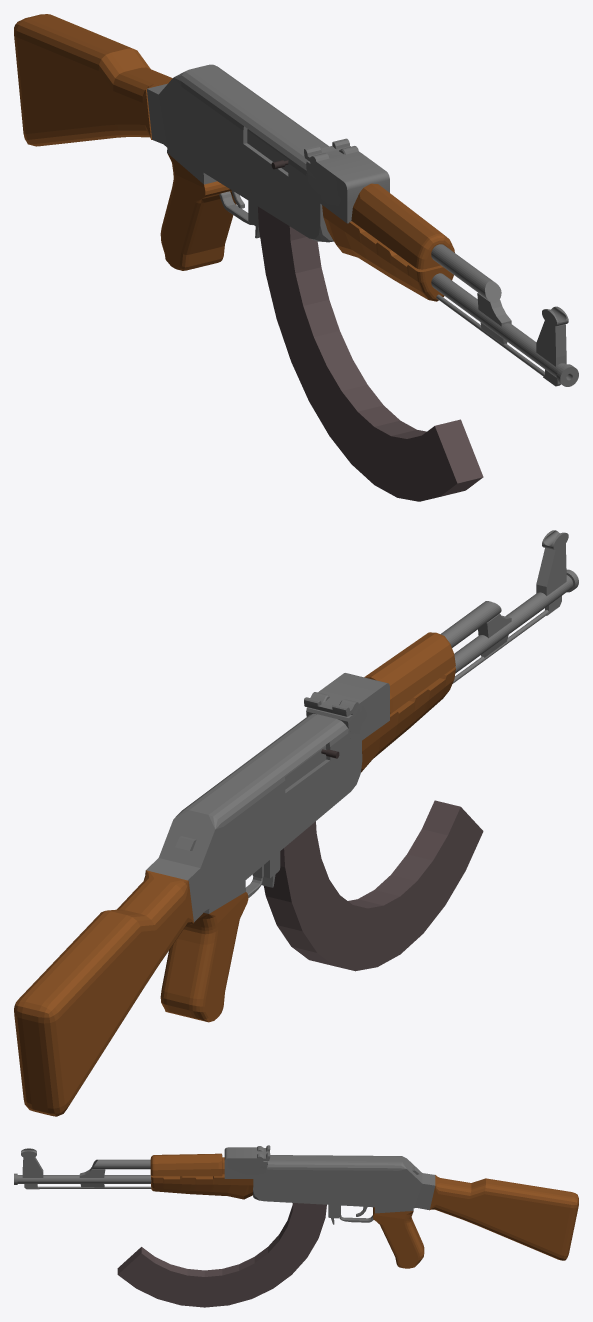
Rendered from Rare.fbx.
The picture shows the model from 3 angles, top to bottom: view 1: azimuth 30°, elevation 25°; view 2: azimuth 150°, elevation 25°; view 3: azimuth 270°, elevation 25°; orthographic projection. The views are drawn at different scales.
Parts seen in each view (by area): view 1: Rare, Body.003, Stock.002, Grip.002, Top Front Grip.002, Rear Sight Thingy.002, Bottom Handguard thing.002, Bottom Barrel.002, Top Barrel.002, Front Sight.002, Top To Bottom to Bottomer Connector.002, Bottomer Barrel.002; view 2: Body.003, Stock.002, Rare, Grip.002, Rear Sight Thingy.002, Top Front Grip.002, Bottom Handguard thing.002, Bottom Barrel.002, Front Sight.002, Top Barrel.002; view 3: Body.003, Rare, Stock.002, Bottom Handguard thing.002, Grip.002, Top Front Grip.002, Rear Sight Thingy.002, Bottom Barrel.002, Top Barrel.002, Front Sight.002, Bottomer Barrel.002, Top To Bottom to Bottomer Connector.002.
Part boxes in pixels (x1,y1,x2,y2): Rare: (258,206,483,501); Body.003: (147,64,333,242); Stock.002: (14,14,172,146); Grip.002: (160,153,236,270); Top Front Grip.002: (351,183,454,269); Rear Sight Thingy.002: (304,138,389,223); Bottom Handguard thing.002: (322,205,453,301); Bottom Barrel.002: (431,273,578,386); Top Barrel.002: (431,244,501,302); Front Sight.002: (536,320,566,386); Top To Bottom to Bottomer Connector.002: (477,293,511,344); Bottomer Barrel.002: (436,294,544,376); Body.003: (146,714,362,922); Stock.002: (14,870,193,1116); Rare: (264,800,483,971); Grip.002: (160,892,248,1022); Rear Sight Thingy.002: (304,673,389,740); Top Front Grip.002: (364,632,455,714); Bottom Handguard thing.002: (361,667,455,772); Bottom Barrel.002: (454,569,578,673); Front Sight.002: (536,544,566,615); Top Barrel.002: (440,601,501,647); Body.003: (253,1155,435,1224); Rare: (117,1203,326,1307); Stock.002: (430,1175,578,1260); Bottom Handguard thing.002: (151,1174,253,1199); Grip.002: (373,1207,424,1268); Top Front Grip.002: (150,1153,224,1176); Rear Sight Thingy.002: (224,1145,270,1178); Bottom Barrel.002: (14,1173,151,1184); Top Barrel.002: (91,1159,150,1169); Front Sight.002: (22,1157,43,1189); Bottomer Barrel.002: (38,1186,151,1188); Top To Bottom to Bottomer Connector.002: (79,1168,105,1187).
Size of the model in its own units: 26.34 by 138 by 459.
